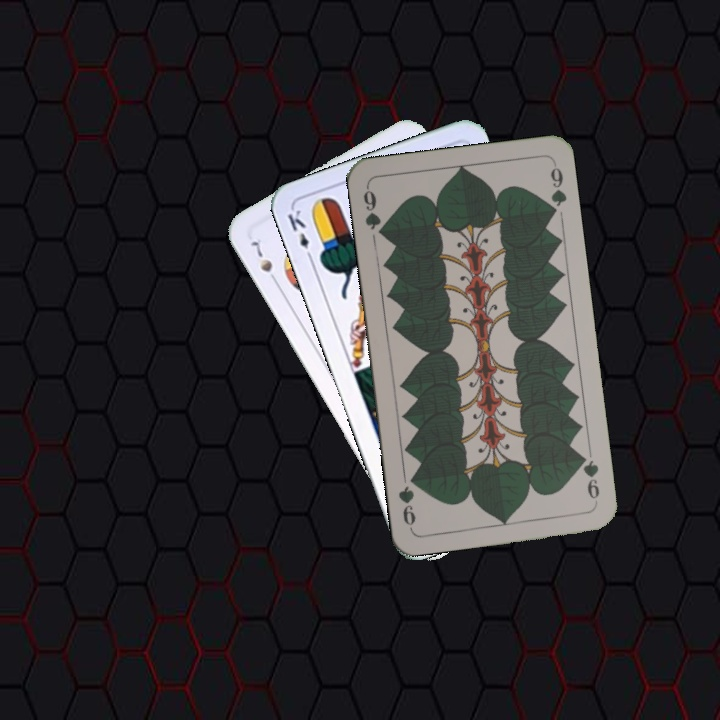EK: (283, 205, 316, 264)
G9: (359, 183, 388, 241), (575, 449, 602, 506)
S7: (246, 236, 281, 288)
